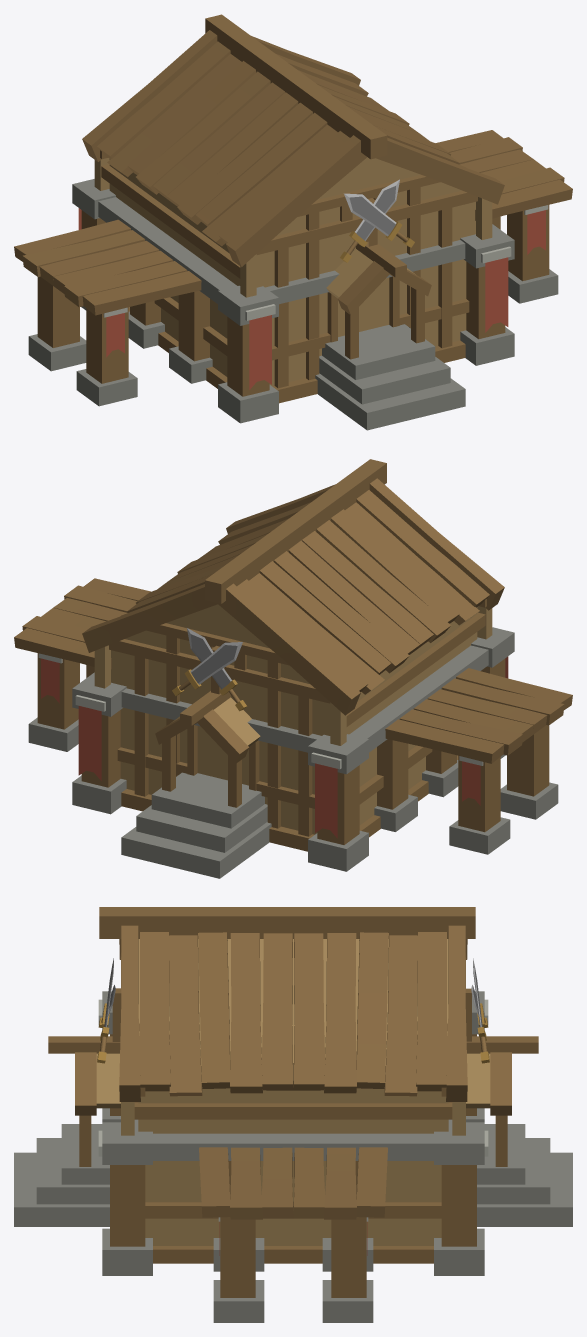
File: barracks_first_age_level2.glb
3 views of the same model, one above another, from view 1: azimuth 30°, elevation 25°; view 2: azimuth 150°, elevation 25°; view 3: azimuth 270°, elevation 25° (orthographic). The views are drawn at different scales.
Parts seen in each view (by area): view 1: Barracks_FirstAge_Level2; view 2: Barracks_FirstAge_Level2; view 3: Barracks_FirstAge_Level2.
Boxes of the visible parts, left/top/right/bottom form: Barracks_FirstAge_Level2: left=14, top=14, right=572, bottom=430; Barracks_FirstAge_Level2: left=14, top=459, right=572, bottom=878; Barracks_FirstAge_Level2: left=14, top=907, right=572, bottom=1322.
Size of the model in its own units: 1.79 by 0.8924 by 1.57.
